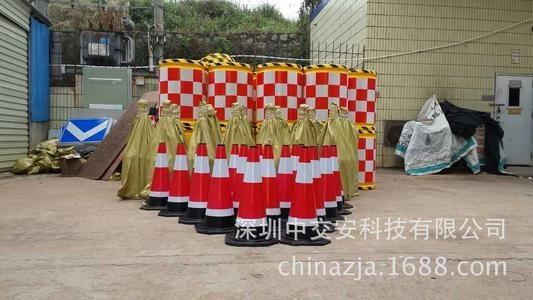cone_barrel: (157, 58, 202, 120), (254, 63, 300, 122), (204, 58, 248, 119), (304, 63, 346, 118), (347, 70, 375, 126), (355, 130, 375, 190)
